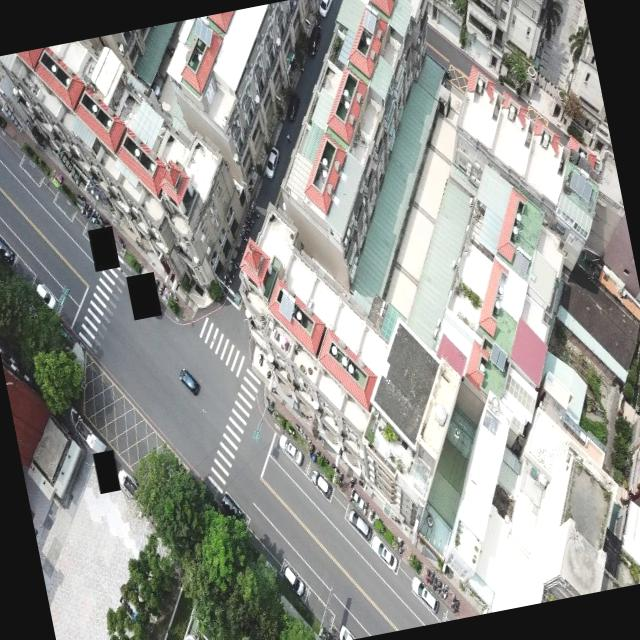bike: (390, 512, 402, 526), (427, 570, 437, 586), (438, 582, 447, 598), (441, 584, 450, 599), (435, 578, 444, 593), (348, 475, 358, 488), (90, 210, 100, 223), (452, 600, 461, 614), (449, 594, 458, 608), (423, 568, 432, 582), (431, 576, 440, 590), (89, 208, 98, 222), (84, 205, 93, 218), (242, 223, 252, 234), (234, 244, 243, 256), (231, 254, 240, 266), (224, 274, 232, 286), (230, 258, 238, 270), (240, 232, 248, 244), (223, 279, 231, 290), (285, 132, 292, 143), (248, 213, 255, 224), (227, 268, 234, 278), (245, 217, 252, 227)
car: (410, 571, 440, 615), (280, 558, 308, 602), (370, 532, 400, 573), (346, 504, 374, 543), (32, 276, 59, 316), (278, 432, 305, 469), (310, 467, 335, 503), (176, 364, 202, 398), (260, 145, 284, 180), (304, 26, 327, 58), (0, 228, 14, 268), (284, 93, 304, 120), (315, 0, 335, 18)
